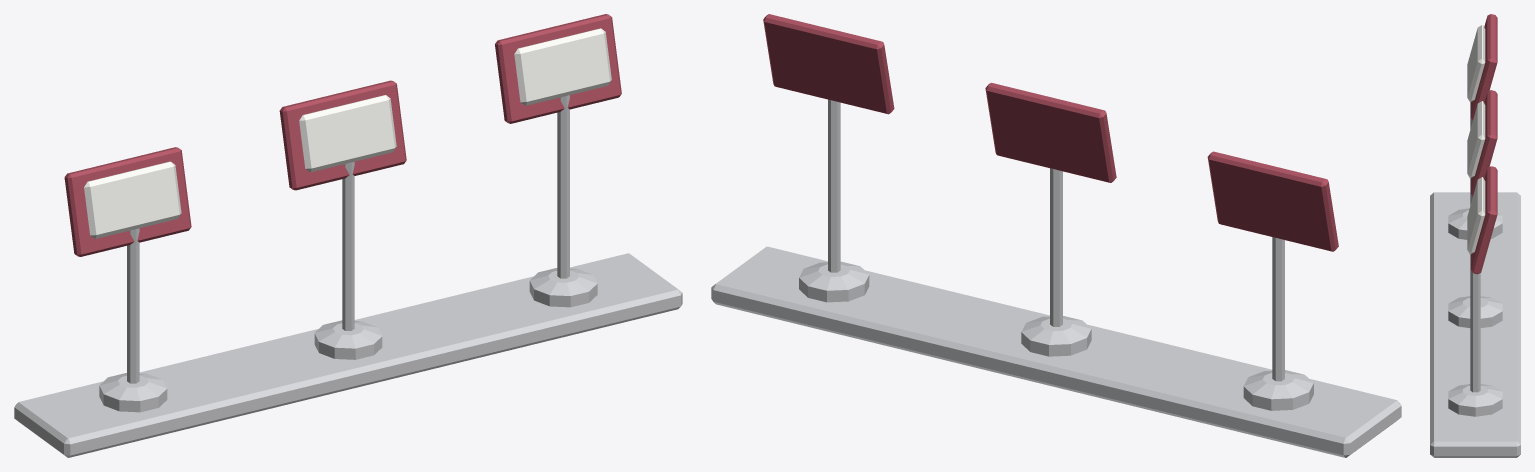
File: butchers-shop-and-deli-counter-price-ticket-set-df8a4613__34432.glb
The picture shows the model from 3 angles, left to right: view 1: azimuth 30°, elevation 25°; view 2: azimuth 150°, elevation 25°; view 3: azimuth 270°, elevation 25°; orthographic projection. The views are drawn at different scales.
Visible parts, largest first — view 1: price-ticket-set; view 2: price-ticket-set; view 3: price-ticket-set.
Part boxes in pixels (left/top/right/bottom): price-ticket-set: left=14, top=14, right=682, bottom=457; price-ticket-set: left=711, top=14, right=1401, bottom=457; price-ticket-set: left=1430, top=14, right=1520, bottom=457.
Bounding box in the file's own units: 0.46 × 0.1978 × 0.07.
